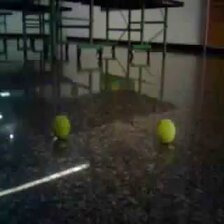tennis: (157, 119, 175, 145), (53, 115, 71, 138)
